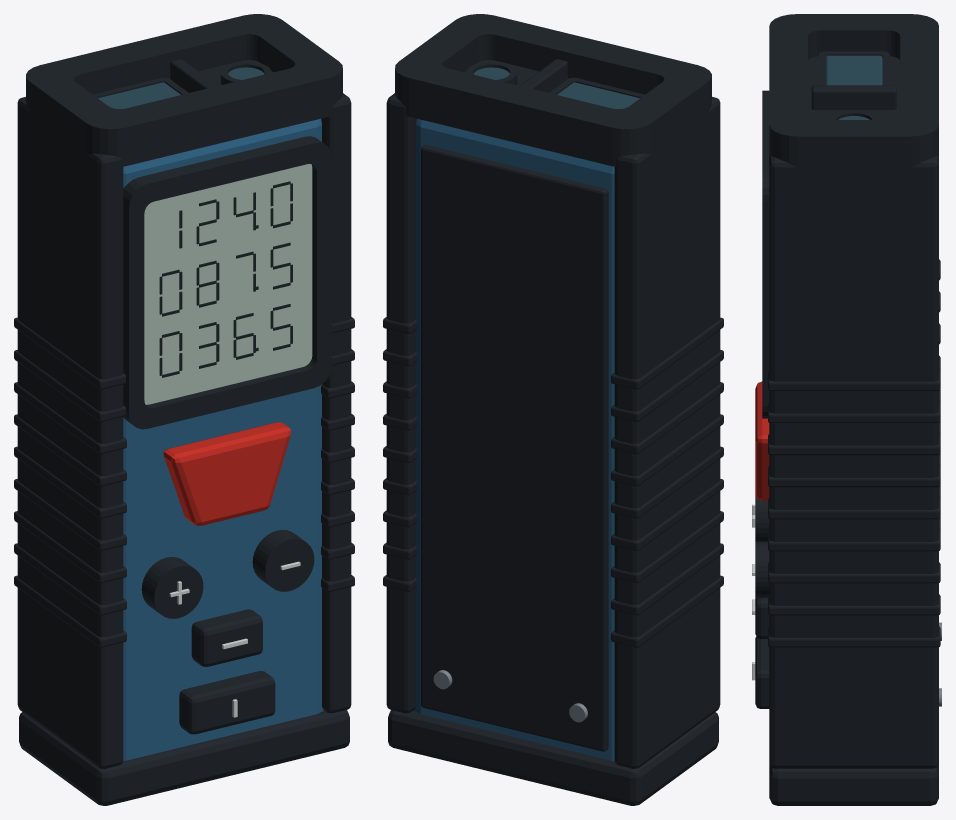
Rendered from full.fbx.
The picture shows the model from 3 angles, left to right: view 1: azimuth 30°, elevation 25°; view 2: azimuth 150°, elevation 25°; view 3: azimuth 270°, elevation 25°; orthographic projection.
Parts seen in each view (by area): view 1: Thick side bumper -0.0185, Closed blue main enclosure, Recessed LCD substrate, Upper optical bay open bumper, Front LCD open bezel, Thick side bumper 0.0185, Closed bottom cap, Large inverted trapezoid measure key, Lower clear power key, Central function key, Minus round key, Plus round key (+11 smaller); view 2: Generic rear finish, Thick side bumper -0.0185, Upper optical bay open bumper, Thick side bumper 0.0185, Closed bottom cap, Closed blue main enclosure, Side grip rib (-0.0185, 0), Side grip rib (-0.0185, 4), Side grip rib (-0.0185, 3), Side grip rib (-0.0185, 8), Side grip rib (-0.0185, 1), Side grip rib (-0.0185, 2) (+5 smaller); view 3: Thick side bumper 0.0185, Upper optical bay open bumper, Closed bottom cap, Front LCD open bezel, Optical divider, Side grip rib (0.0185, 6), Side grip rib (0.0185, 1), Side grip rib (0.0185, 2), Side grip rib (0.0185, 5), Side grip rib (0.0185, 0), Side grip rib (0.0185, 3), Side grip rib (0.0185, 4) (+10 smaller).
Part boxes in pixels (x1,y1,x2,y2): Thick side bumper -0.0185: [17, 97, 123, 768]; Closed blue main enclosure: [123, 118, 323, 760]; Recessed LCD substrate: [144, 164, 312, 404]; Upper optical bay open bumper: [26, 14, 342, 166]; Front LCD open bezel: [123, 136, 332, 429]; Thick side bumper 0.0185: [321, 93, 351, 713]; Closed bottom cap: [19, 710, 349, 805]; Large inverted trapezoid measure key: [163, 422, 290, 525]; Lower clear power key: [179, 671, 275, 734]; Central function key: [191, 609, 262, 666]; Minus round key: [252, 529, 314, 591]; Plus round key: [141, 557, 203, 618]; Generic rear finish: [421, 144, 608, 751]; Thick side bumper -0.0185: [614, 97, 720, 768]; Upper optical bay open bumper: [395, 14, 711, 166]; Thick side bumper 0.0185: [386, 93, 416, 713]; Closed bottom cap: [388, 710, 718, 805]; Closed blue main enclosure: [414, 118, 614, 760]; Side grip rib (-0.0185, 0): [611, 575, 723, 647]; Side grip rib (-0.0185, 4): [611, 446, 723, 518]; Side grip rib (-0.0185, 3): [611, 479, 723, 550]; Side grip rib (-0.0185, 8): [611, 317, 723, 389]; Side grip rib (-0.0185, 1): [611, 543, 723, 615]; Side grip rib (-0.0185, 2): [611, 511, 723, 583]; Thick side bumper 0.0185: [769, 155, 938, 768]; Upper optical bay open bumper: [769, 14, 938, 174]; Closed bottom cap: [769, 764, 938, 805]; Front LCD open bezel: [762, 90, 769, 418]; Optical divider: [811, 85, 896, 109]; Side grip rib (0.0185, 6): [768, 434, 940, 455]; Side grip rib (0.0185, 1): [768, 594, 940, 615]; Side grip rib (0.0185, 2): [768, 562, 940, 583]; Side grip rib (0.0185, 5): [768, 466, 940, 487]; Side grip rib (0.0185, 0): [768, 626, 940, 647]; Side grip rib (0.0185, 3): [768, 530, 940, 551]; Side grip rib (0.0185, 4): [768, 498, 940, 519].
Size of the model in its own units: 4.15 by 10.5 by 2.69.
